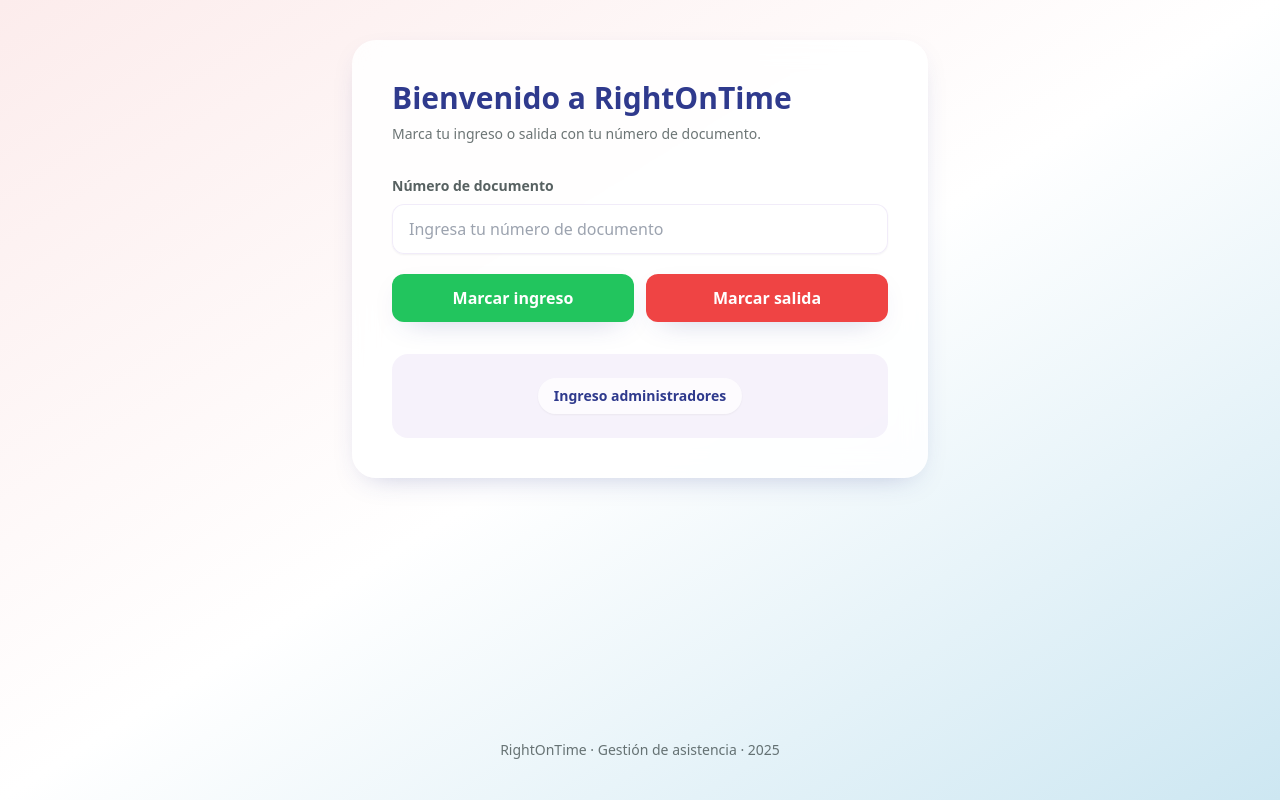
Test case: RightOnTime views › allows navigating to the admin login view
This screenshot has width=1280, height=800.
Click the button "Ingreso administradores". click: (640,396)
box: [538, 378, 742, 414]
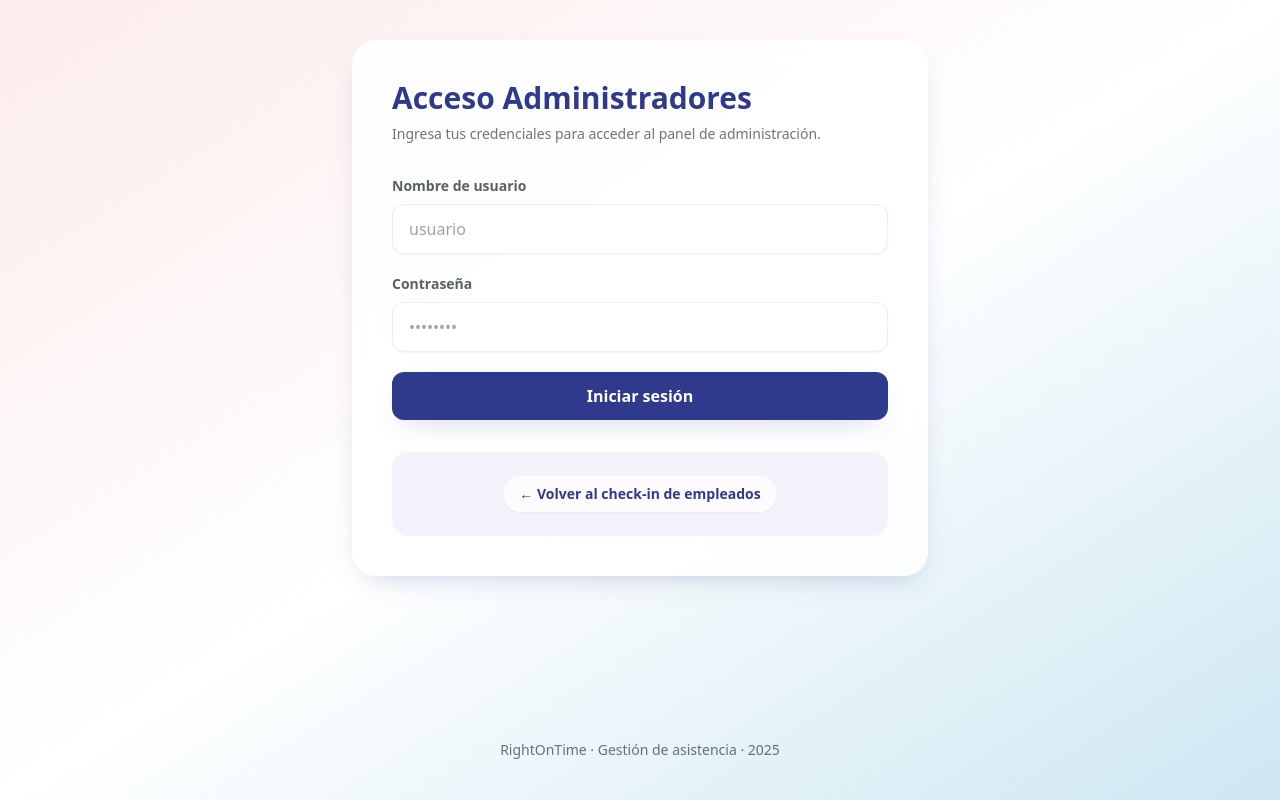
Expected: the heading "Acceso Administradores" is shown, [392, 77, 752, 118]
Expected: the field labelled "Nombre de usuario" is shown, [392, 204, 888, 254]
